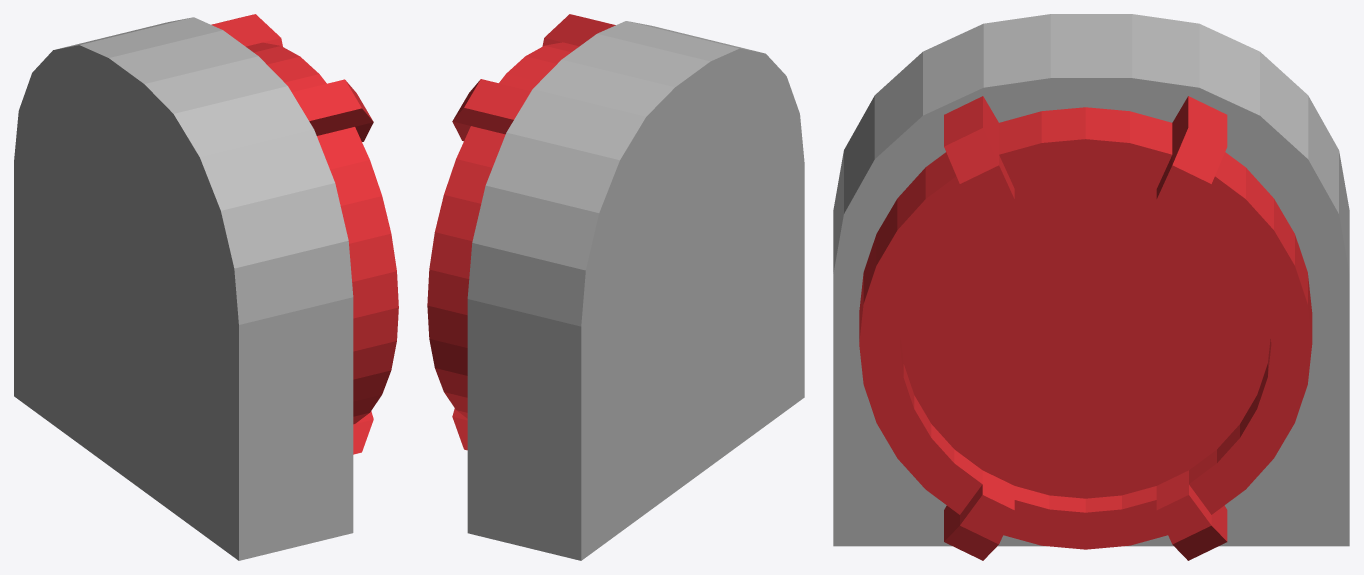
File: cable_exit.fbx
3 renders of one model, left to right at view 1: azimuth 30°, elevation 25°; view 2: azimuth 150°, elevation 25°; view 3: azimuth 270°, elevation 25°, orthographic. The views are drawn at different scales.
Visible parts, largest first — view 1: Cube, Cylinder; view 2: Cube, Cylinder; view 3: Cylinder, Cube.
Part boxes in pixels (x1,y1,x2,y2): Cube: (14, 17, 353, 560); Cylinder: (211, 14, 398, 454); Cube: (467, 21, 804, 560); Cylinder: (427, 14, 615, 450); Cylinder: (859, 96, 1312, 560); Cube: (833, 14, 1349, 546).
Bounding box in the file's own units: 97.57 × 200 × 200.
